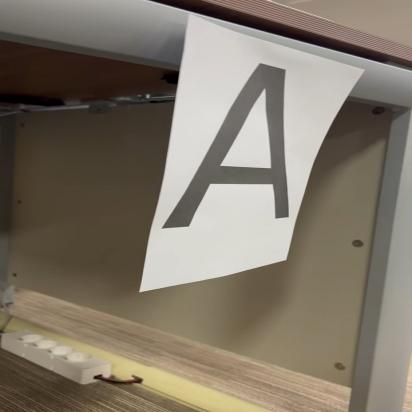seat: (159, 56, 307, 237)
